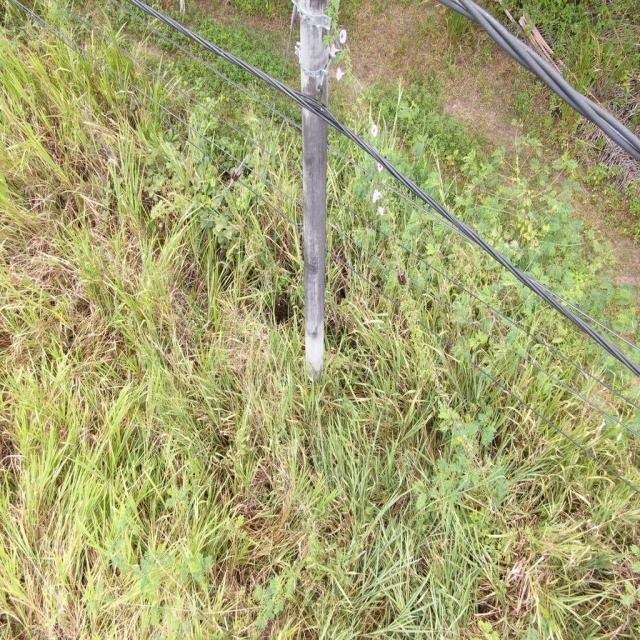critical vegetation: (317, 29, 495, 498)
